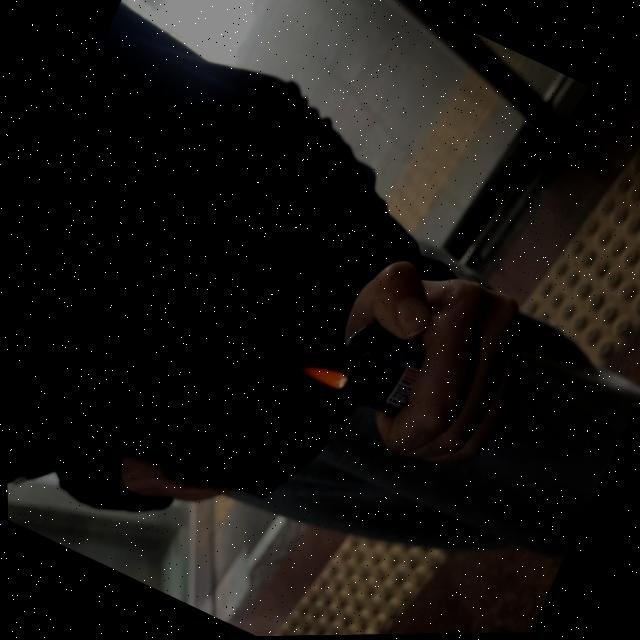Fire: (289, 350, 352, 398)
